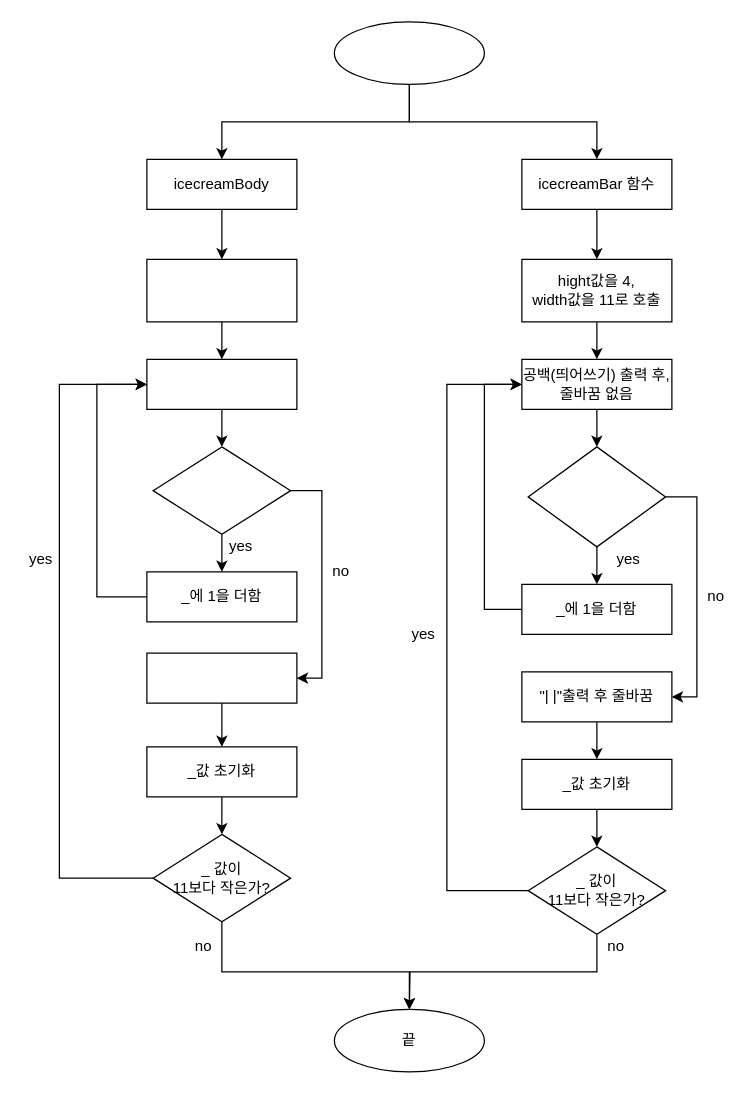
Image size: 755x1094. Some labels were removed from this diagram. Here are the shapes that lost their labels. From the top down, the centre of each, then its label:
(x=408, y=52): 시작
(x=221, y=290): hight값을 8, width값을 11로 호출
(x=221, y=383): 문자열 "*" 출력 후, 줄바꿈 없음
(x=221, y=490): _ 값이 8보다 작은가?
(x=596, y=496): _ 값이 (width/2) -1보다 작은가?
(x=221, y=677): 줄바꿈(print "")
